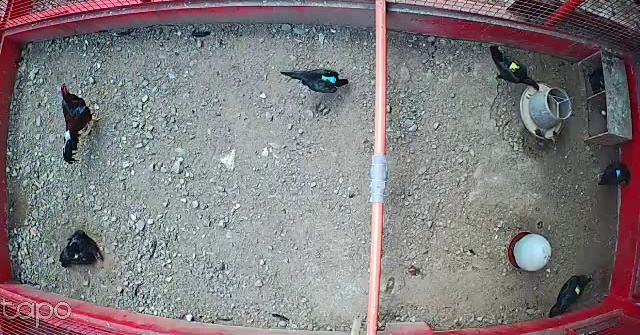Chicken: (489, 43, 541, 96), (54, 228, 108, 274), (545, 270, 595, 319), (280, 62, 354, 95), (594, 160, 632, 189)
Rooster: (54, 79, 100, 165)
Saddle_Color_Blue: (615, 170, 622, 178)
Saddle_Color_Yellow: (507, 61, 521, 71)
Saddle_Color_YellowGreen: (573, 283, 582, 294)
